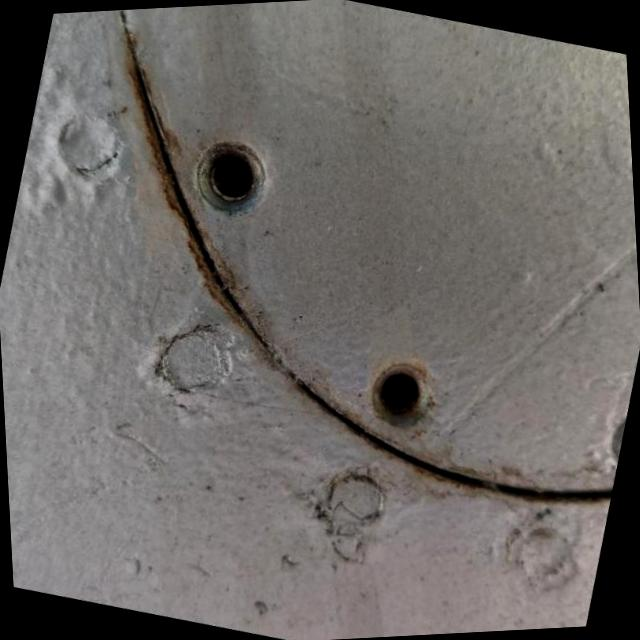Missing Fastener: (196, 138, 269, 212), (370, 356, 440, 428)
